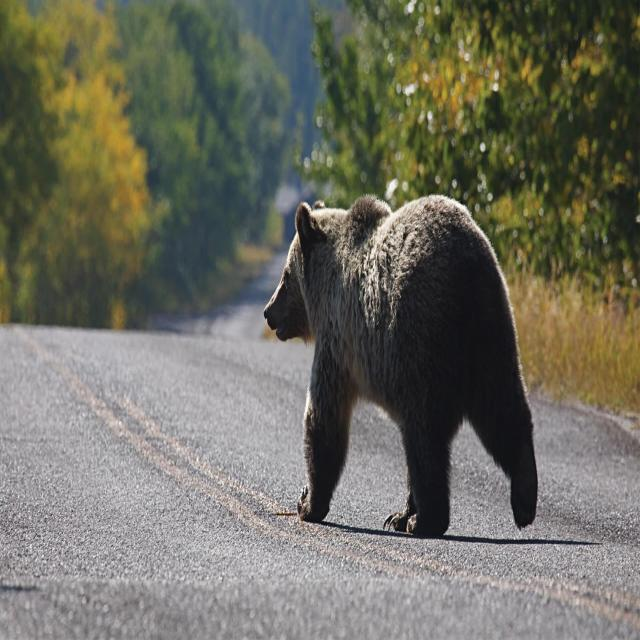Bear: (264, 196, 540, 540)
